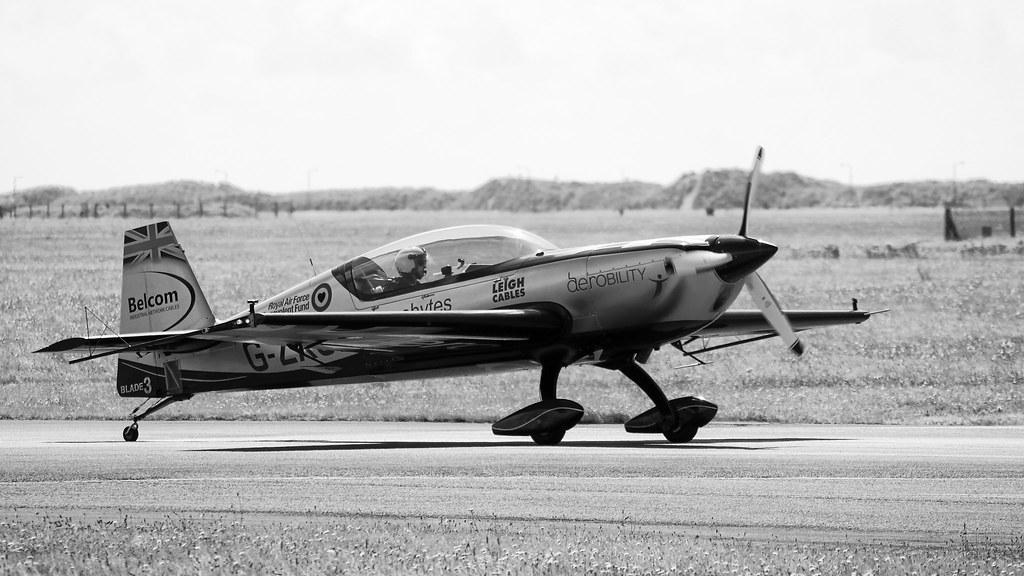plane: (32, 145, 891, 446)
